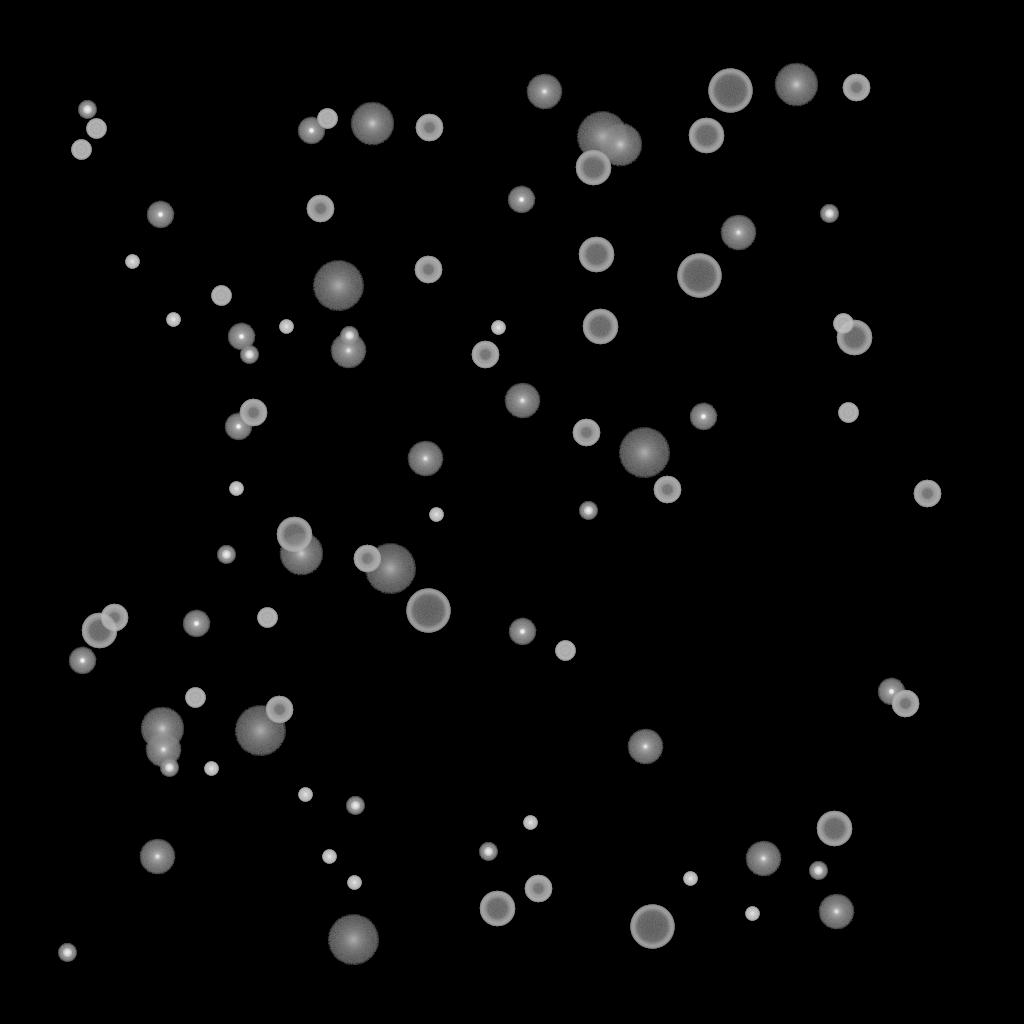depth:-10: (182, 610, 210, 638), (68, 647, 96, 675), (508, 618, 536, 646), (689, 403, 717, 431), (227, 323, 255, 351), (297, 117, 325, 145), (146, 201, 174, 229), (877, 678, 905, 706), (224, 413, 252, 441), (507, 186, 535, 214)
depth:-20: (340, 327, 358, 345), (579, 502, 597, 520), (479, 843, 497, 861), (240, 346, 258, 364), (78, 101, 96, 119), (160, 759, 178, 777), (217, 546, 235, 564), (346, 797, 364, 815), (58, 944, 76, 962), (809, 862, 827, 880), (820, 205, 838, 223)
depth:-30: (125, 255, 139, 269), (166, 313, 180, 327), (322, 850, 336, 864), (523, 816, 537, 830), (491, 321, 505, 335), (429, 508, 443, 522), (204, 762, 218, 776), (683, 872, 697, 886), (347, 876, 361, 890), (298, 788, 312, 802), (229, 482, 243, 496), (279, 320, 293, 334), (745, 907, 759, 921)
depth:-40: (833, 314, 853, 334), (86, 119, 106, 139), (838, 403, 858, 423), (317, 109, 337, 129), (185, 688, 205, 708), (555, 641, 575, 661), (211, 286, 231, 306), (71, 140, 91, 160), (257, 608, 277, 628)
depth:-50: (913, 480, 941, 508), (524, 875, 552, 903), (572, 419, 600, 447), (100, 604, 128, 632), (415, 114, 443, 142), (842, 74, 870, 102), (891, 690, 919, 718), (414, 256, 442, 284), (265, 696, 293, 724), (353, 545, 381, 573), (239, 399, 267, 427), (653, 476, 681, 504), (471, 341, 499, 369), (306, 195, 334, 223)
depth:-60: (578, 237, 614, 273), (688, 118, 724, 154), (816, 811, 852, 847), (276, 517, 312, 553), (81, 613, 117, 649), (479, 891, 515, 927), (582, 309, 618, 345), (575, 150, 611, 186), (836, 320, 872, 356)
depth:-70: (677, 254, 721, 298), (406, 589, 450, 633), (708, 69, 752, 113), (630, 905, 674, 949)
depth:0: (330, 333, 366, 369), (407, 441, 443, 477), (627, 729, 663, 765), (526, 74, 562, 110), (745, 841, 781, 877), (504, 383, 540, 419), (818, 894, 854, 930), (145, 732, 181, 768), (139, 839, 175, 875), (720, 215, 756, 251)
depth:10: (279, 532, 323, 576), (598, 123, 642, 167), (774, 63, 818, 107), (350, 102, 394, 146), (140, 707, 184, 751)
depth:20: (576, 112, 628, 162), (327, 915, 379, 965), (312, 261, 364, 311), (618, 428, 670, 478), (364, 544, 416, 594), (234, 706, 286, 756)
